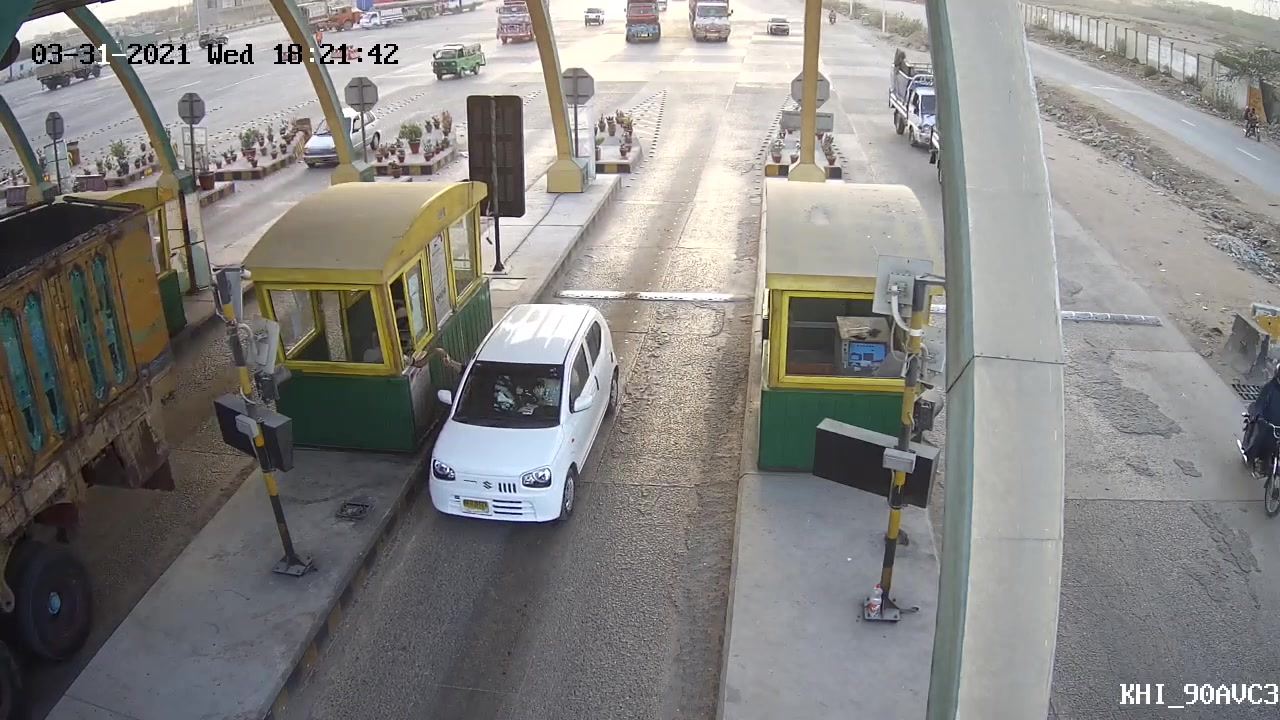F1: (423, 296, 629, 532)
